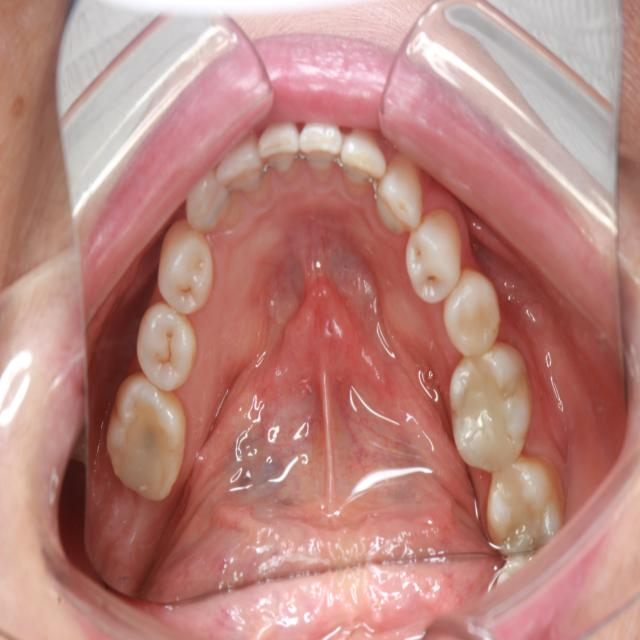tooth: (442, 338, 541, 477), (103, 359, 193, 507), (475, 446, 567, 556), (402, 188, 471, 315), (440, 250, 508, 367), (134, 295, 208, 399), (155, 215, 225, 323), (371, 142, 434, 246), (336, 116, 393, 209), (292, 104, 351, 189), (183, 163, 243, 244), (213, 137, 268, 207), (254, 115, 307, 187)
